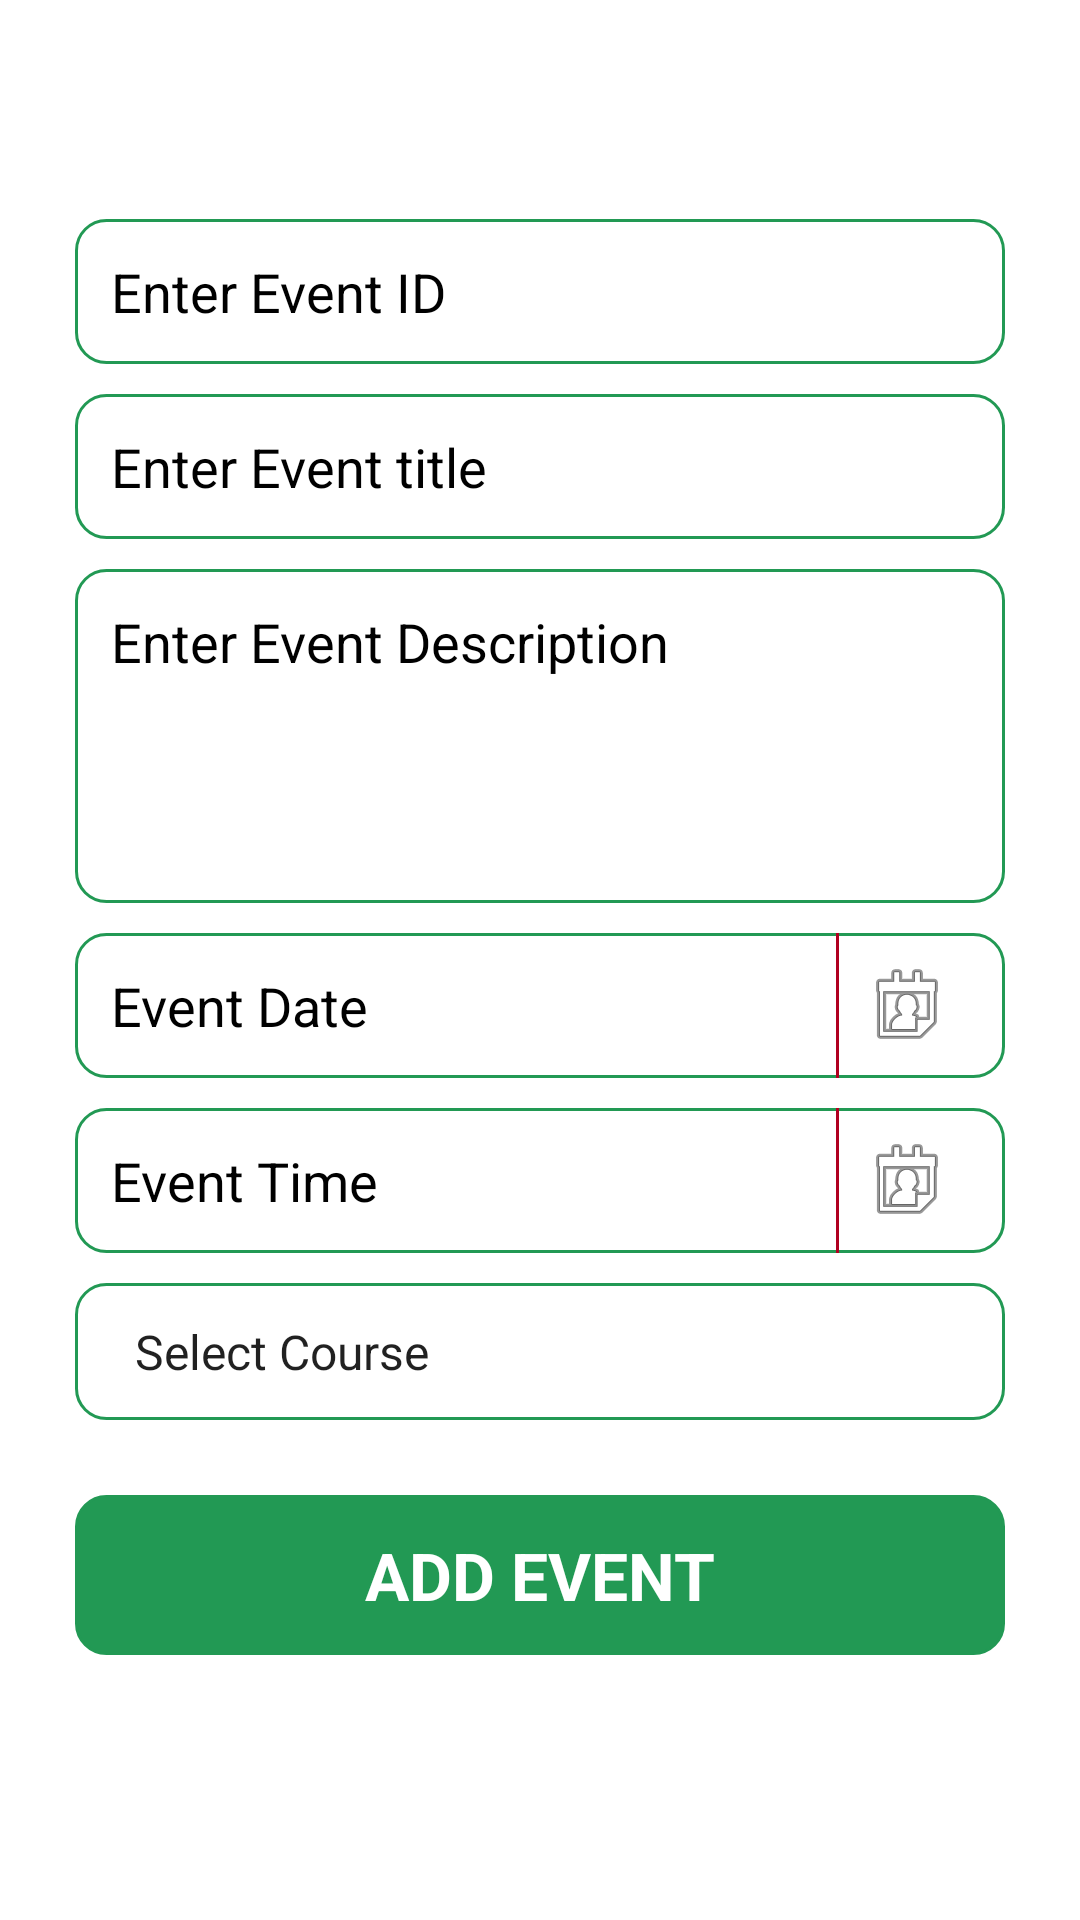

Where icons sit on this 1080w x 1920h app screen, as (x1, y1, x2, y2):
calendar: (876, 969, 938, 1039), (876, 1144, 938, 1214)
